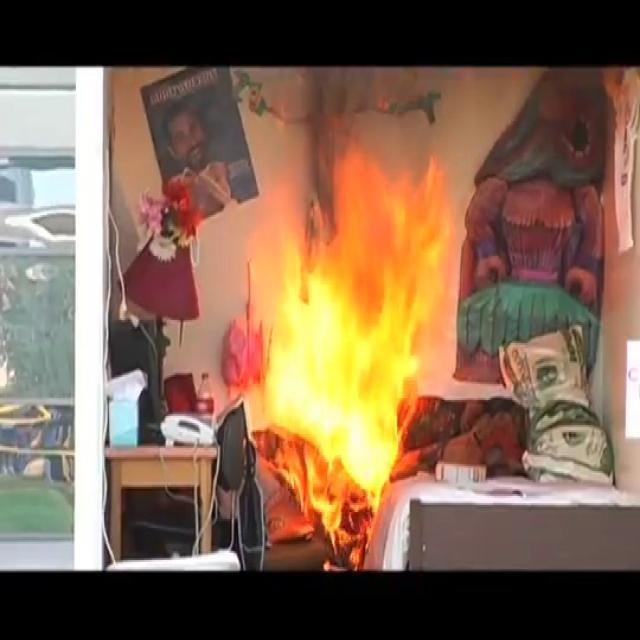Fire: (224, 135, 462, 548)
